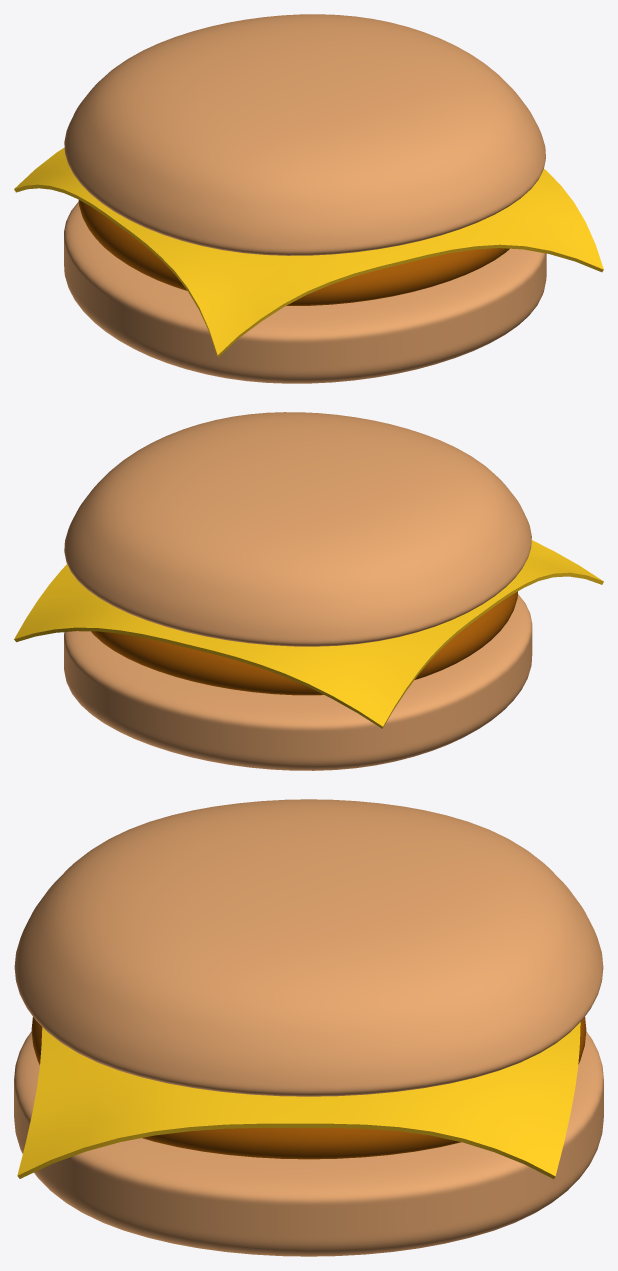
File: hamburger.glb
The picture shows the model from 3 angles, top to bottom: view 1: azimuth 30°, elevation 25°; view 2: azimuth 150°, elevation 25°; view 3: azimuth 270°, elevation 25°; orthographic projection. The views are drawn at different scales.
Parts seen in each view (by area): view 1: Cube.002, Cube, Plane, Cube.001; view 2: Cube.002, Cube, Plane, Cube.001; view 3: Cube.002, Cube, Plane, Cube.001.
Part boxes in pixels (left/top/right/bottom): Cube.002: left=64, top=14, right=545, bottom=255; Cube: left=64, top=202, right=546, bottom=383; Plane: left=14, top=147, right=603, bottom=357; Cube.001: left=78, top=200, right=509, bottom=305; Cube.002: left=64, top=412, right=531, bottom=646; Cube: left=64, top=594, right=532, bottom=770; Plane: left=14, top=540, right=603, bottom=728; Cube.001: left=91, top=591, right=517, bottom=695; Cube.002: left=14, top=799, right=603, bottom=1096; Cube: left=14, top=1031, right=603, bottom=1256; Plane: left=17, top=1022, right=580, bottom=1178; Cube.001: left=31, top=1017, right=586, bottom=1159.
Bounding box in the file's own units: 9.17 × 5 × 9.17.
